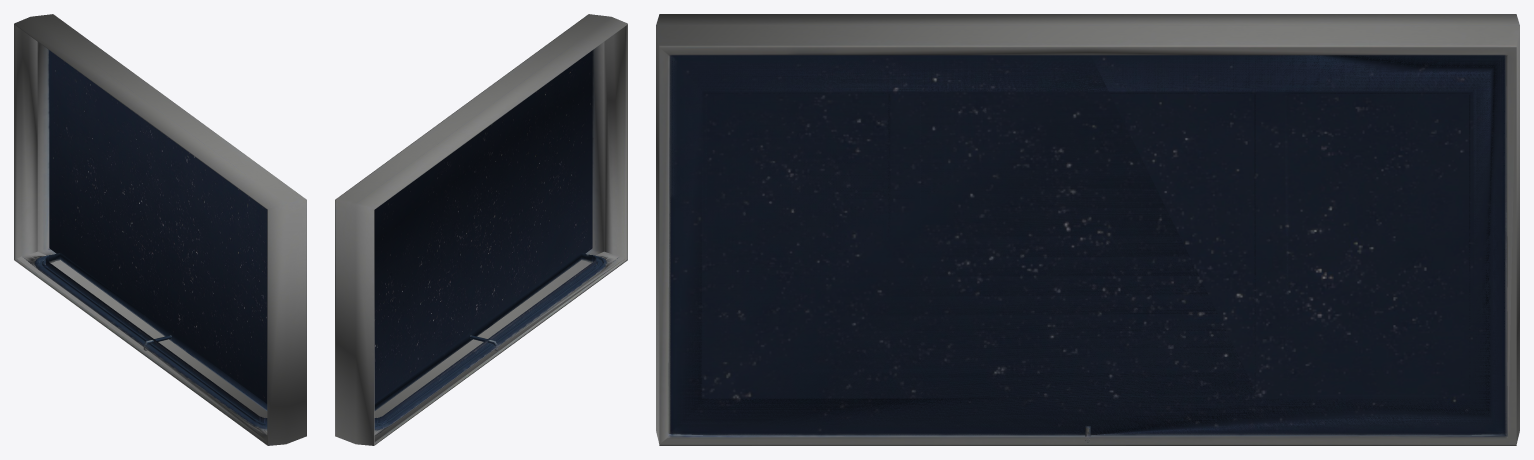
File: power_screen_slim_tv.glb
The picture shows the model from 3 angles, left to right: view 1: azimuth 30°, elevation 25°; view 2: azimuth 150°, elevation 25°; view 3: azimuth 270°, elevation 25°; orthographic projection. The views are drawn at different scales.
Visible parts, largest first — view 1: tripo_node_90de9fac-d750-4c7f-af5e-e75bfe1f291d; view 2: tripo_node_90de9fac-d750-4c7f-af5e-e75bfe1f291d; view 3: tripo_node_90de9fac-d750-4c7f-af5e-e75bfe1f291d.
Boxes of the visible parts, bbox=[...] form: tripo_node_90de9fac-d750-4c7f-af5e-e75bfe1f291d: bbox=[14, 14, 306, 445]; tripo_node_90de9fac-d750-4c7f-af5e-e75bfe1f291d: bbox=[335, 14, 627, 445]; tripo_node_90de9fac-d750-4c7f-af5e-e75bfe1f291d: bbox=[656, 14, 1519, 445].
Size of the model in its own units: 0.1019 by 0.6 by 1.16.
Materials: 1 (1 with a texture image).
